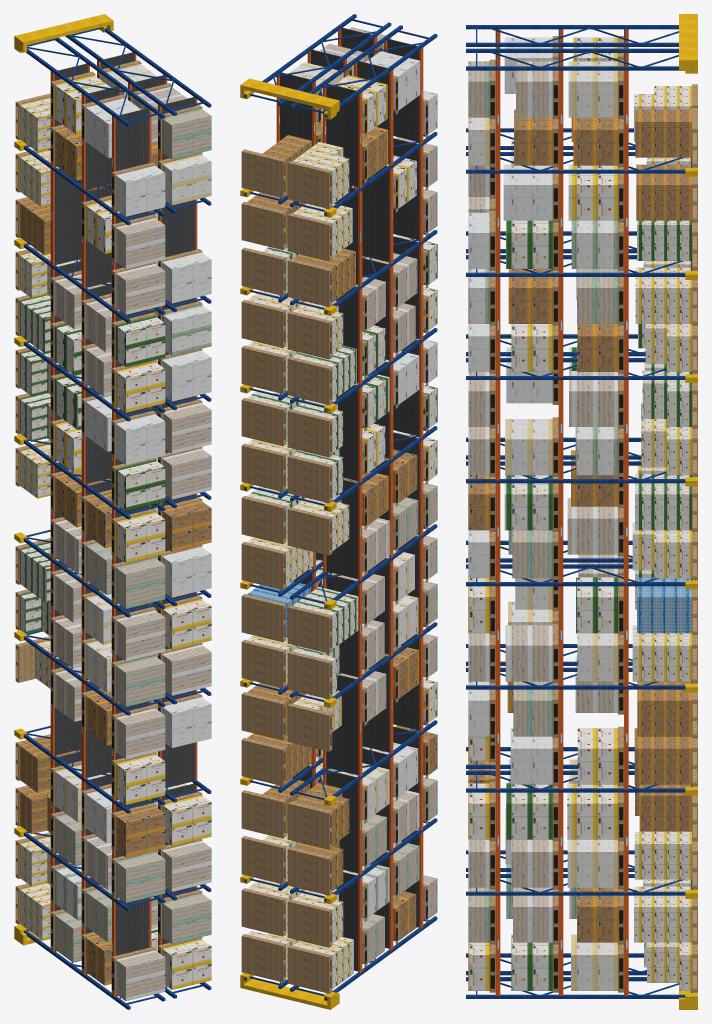
Rendered from racks_w2_n.gltf.
3 views of the same model, side by side, from view 1: azimuth 30°, elevation 25°; view 2: azimuth 150°, elevation 25°; view 3: azimuth 270°, elevation 25° (orthographic). The views are drawn at different scales.
Visible parts, largest first — view 1: racks_w2_n; view 2: racks_w2_n; view 3: racks_w2_n.
Boxes of the visible parts, x1,y1,x2,y2 form: racks_w2_n: [14, 14, 211, 1009]; racks_w2_n: [240, 14, 437, 1009]; racks_w2_n: [466, 14, 697, 1009].
Bounding box in the file's own units: 2.6 × 24.86 × 5.5.
Materials: 18 (18 with a texture image).
